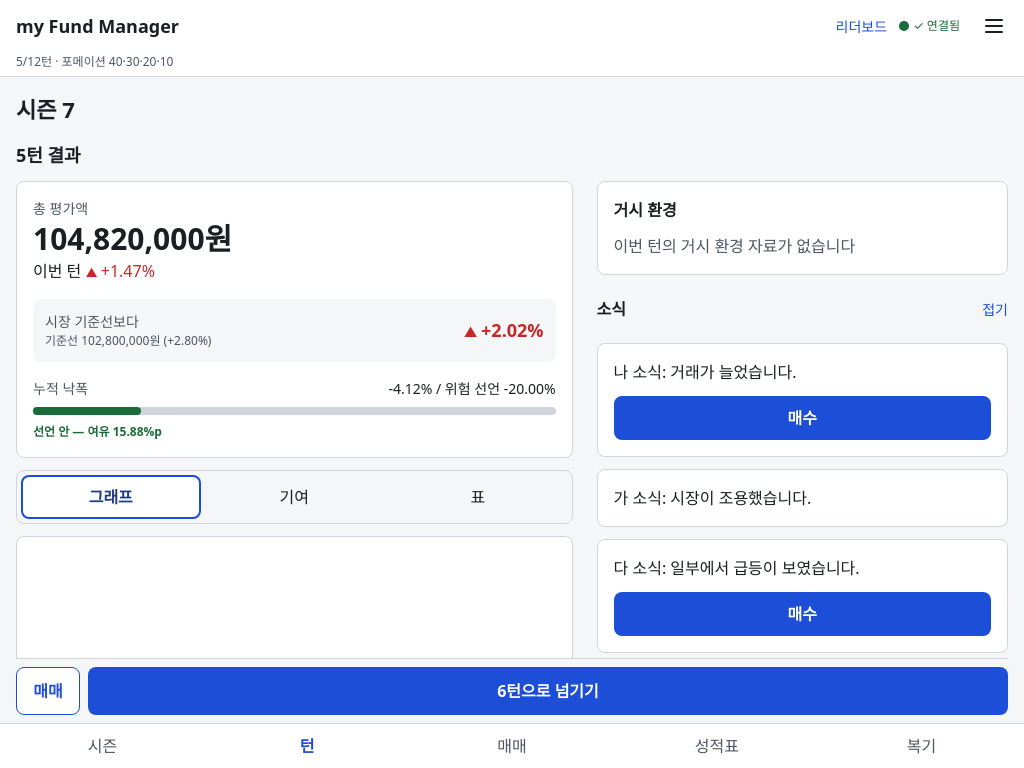
feed on the now page › shows the refusal in the sheet, keeps it open and never resends without a source
Click the button with aria-label "종목 가 매수". click: [802, 614]
box: x1=614 y1=592 x2=991 y2=636
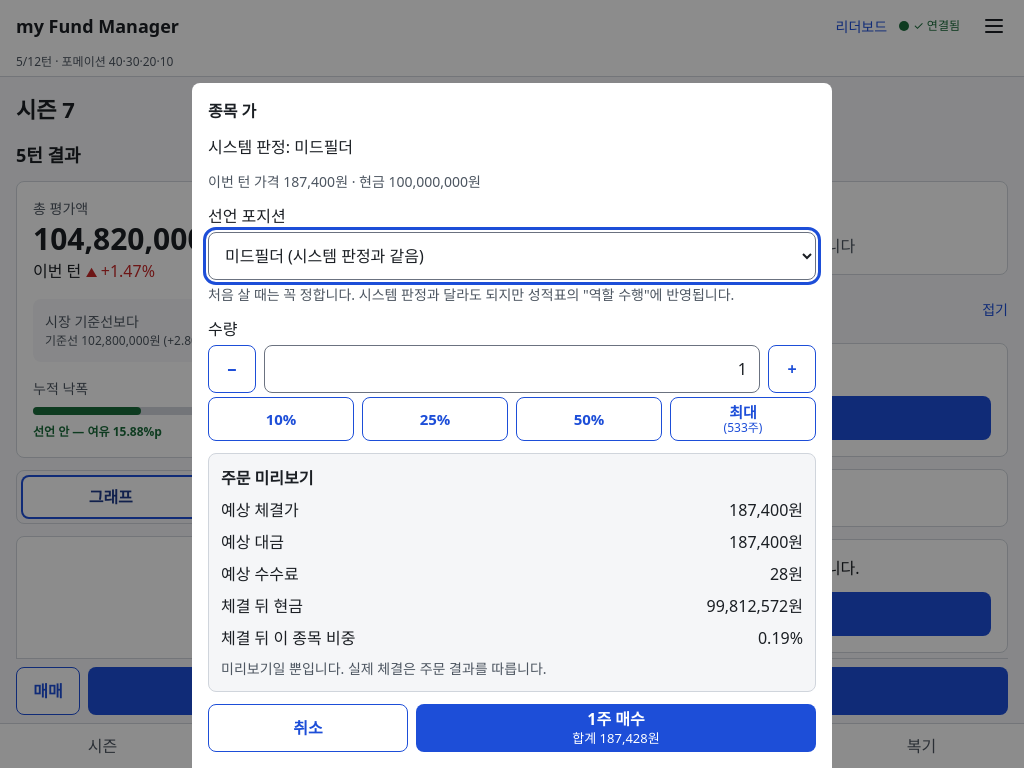
Click the button "1주 매수 합계 187,428원". click: [616, 728]
box: x1=416 y1=704 x2=816 y2=752
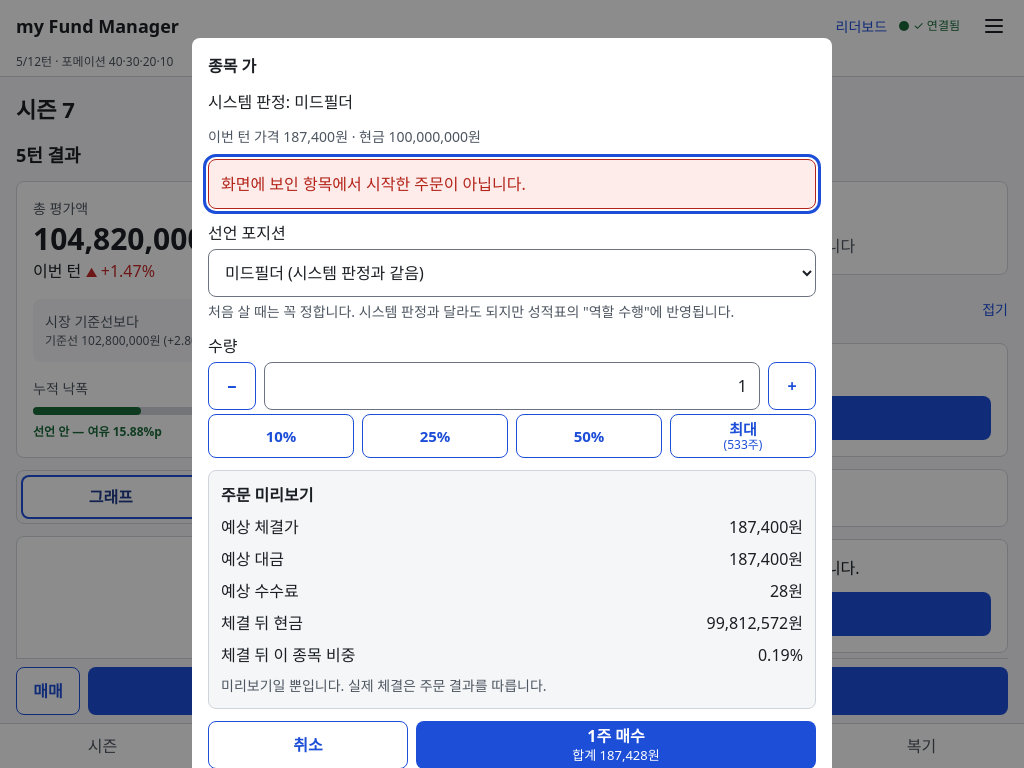
expect the dialog "종목 가" is shown: met, box x1=192 y1=38 x2=832 y2=767
expect the message "화면에 보인 항목에서 시작한 주문이 아닙니다." is shown: met, box x1=208 y1=159 x2=816 y2=209
